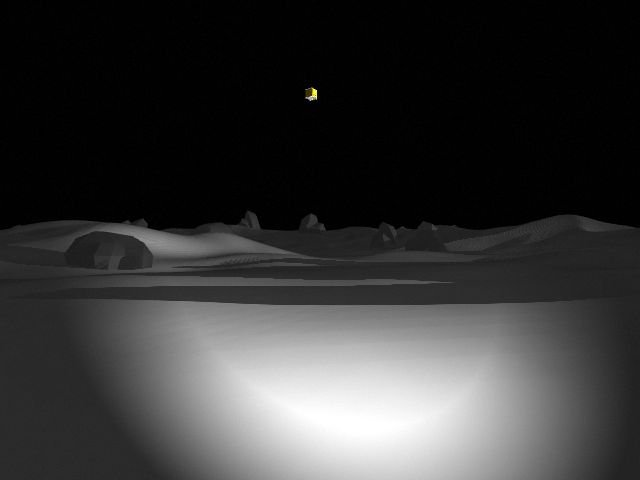cubesat: (299, 86, 321, 104)
